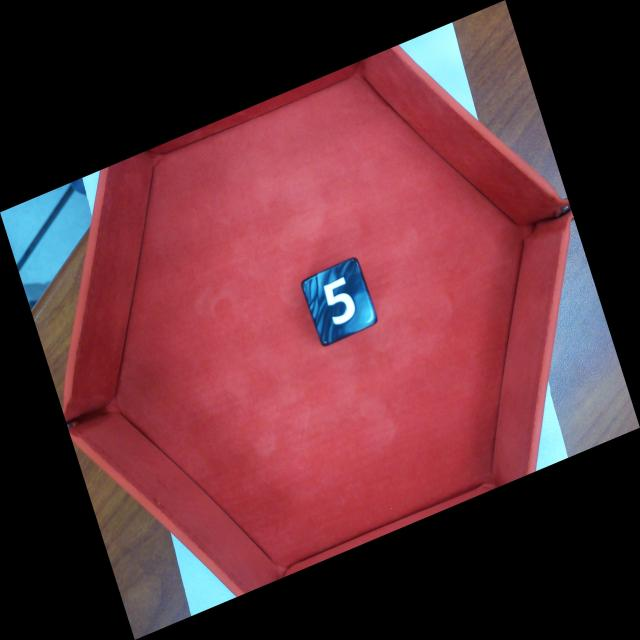dice: (299, 256, 380, 349)
